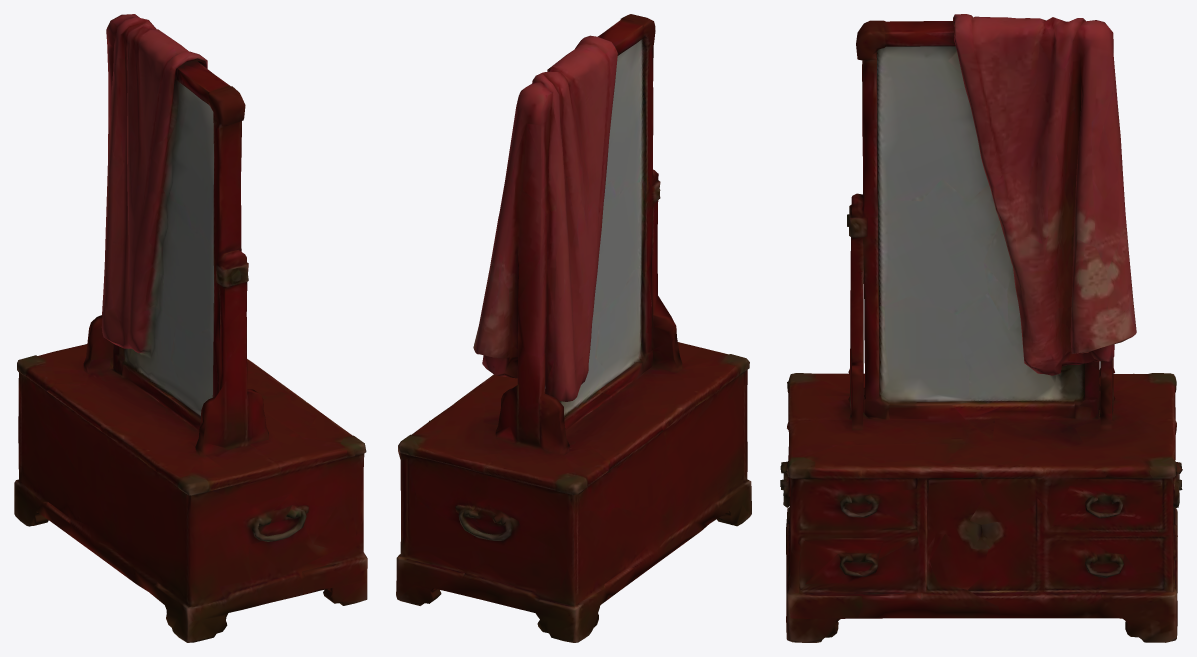
File: kyodai.glb
3 renders of one model, left to right at view 1: azimuth 30°, elevation 25°; view 2: azimuth 150°, elevation 25°; view 3: azimuth 270°, elevation 25°, orthographic. The views are drawn at different scales.
Parts seen in each view (by area): view 1: tripo_node_c3b8653a-3574-4f18-acf4-5b25aa396664; view 2: tripo_node_c3b8653a-3574-4f18-acf4-5b25aa396664; view 3: tripo_node_c3b8653a-3574-4f18-acf4-5b25aa396664.
Boxes of the visible parts, x1,y1,x2,y2 form: tripo_node_c3b8653a-3574-4f18-acf4-5b25aa396664: (14,14,367,642); tripo_node_c3b8653a-3574-4f18-acf4-5b25aa396664: (396,14,751,642); tripo_node_c3b8653a-3574-4f18-acf4-5b25aa396664: (780,14,1182,642).
Bounding box in the file's own units: 0.3711 × 1 × 0.6396.
1 material, 1 textured.
